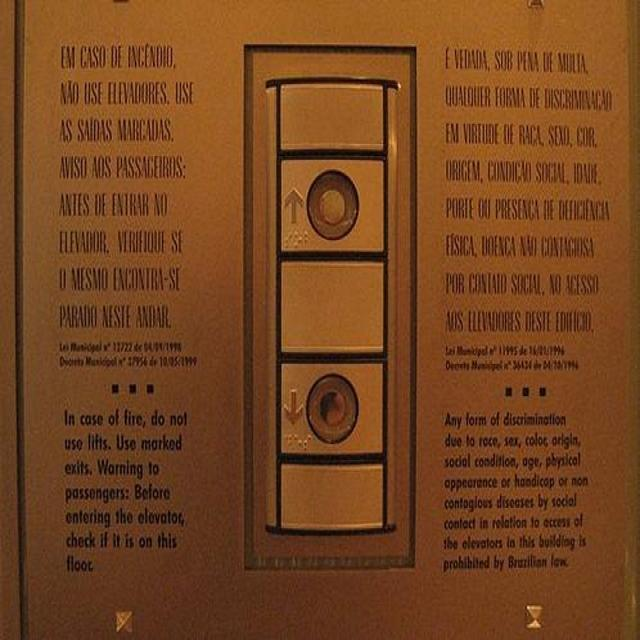close: (274, 351, 389, 460)
empty: (273, 252, 388, 361)
up: (273, 149, 388, 259)
